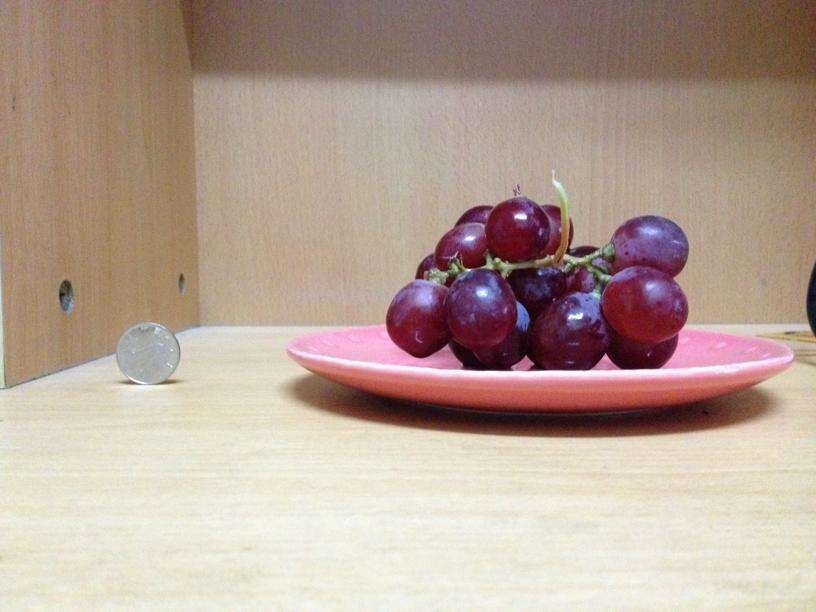coin: (114, 323, 179, 384)
grape: (390, 188, 690, 370)
